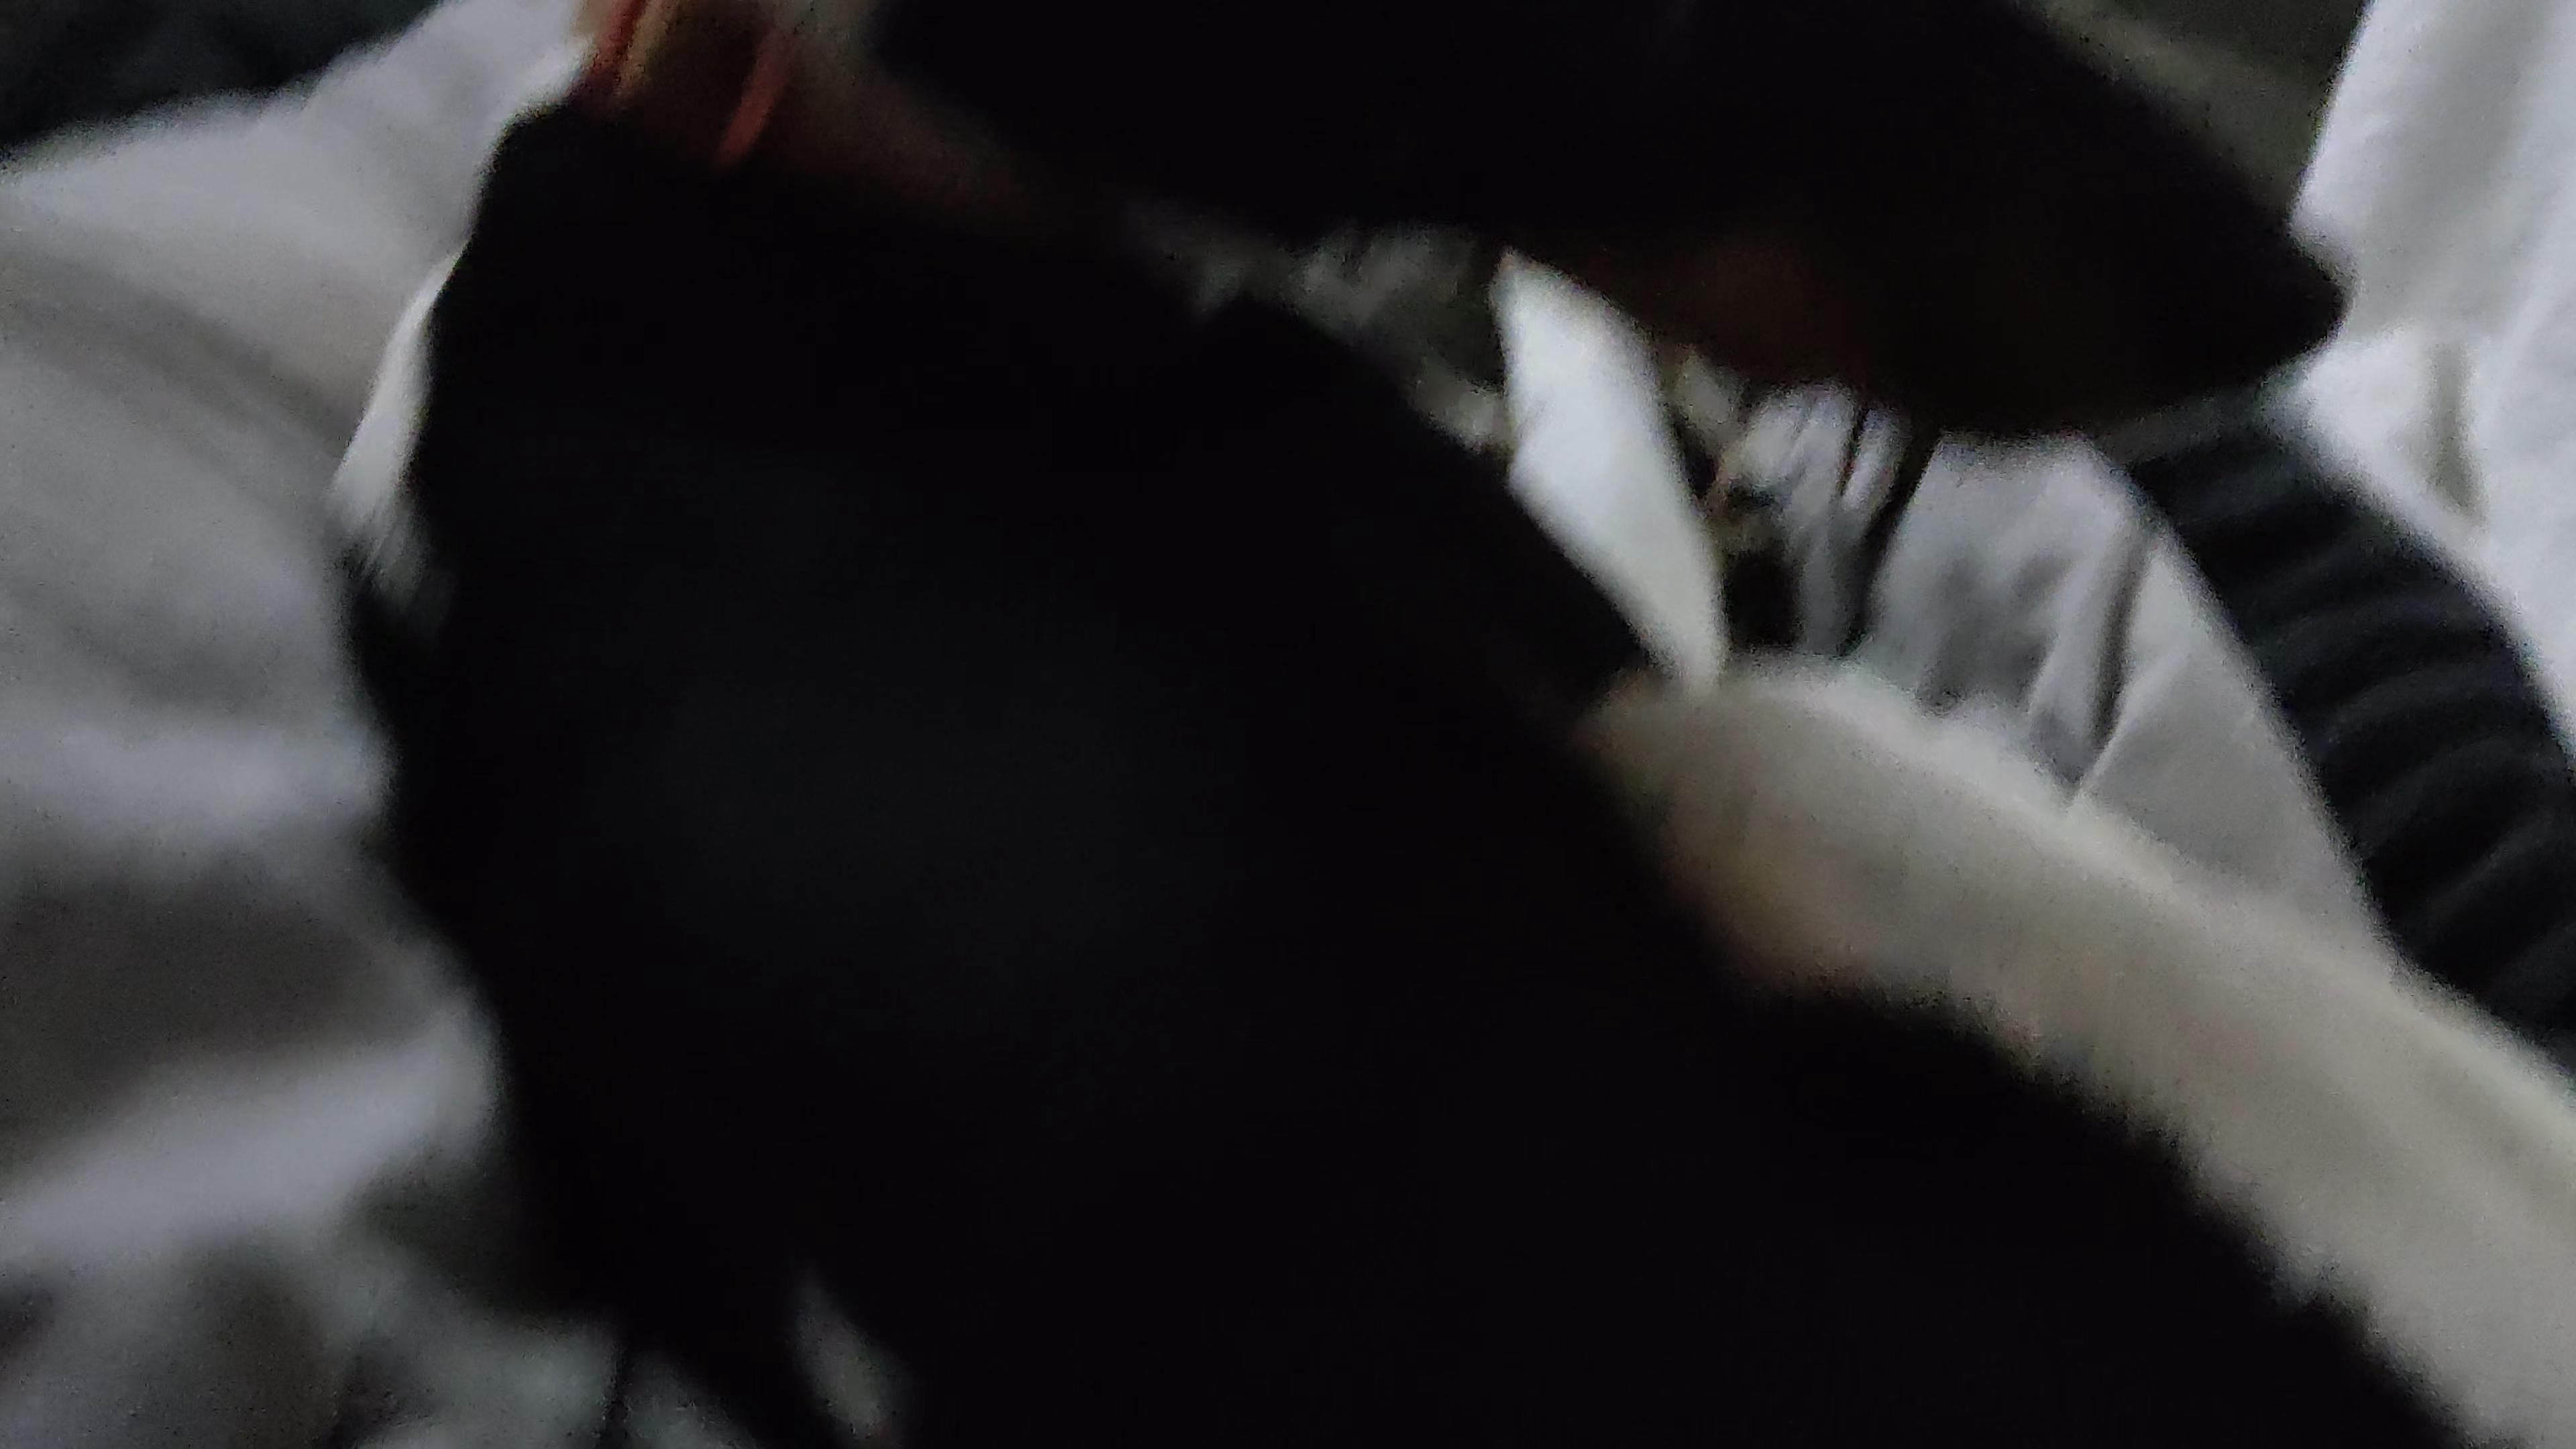Dog: (311, 0, 2565, 1449)
